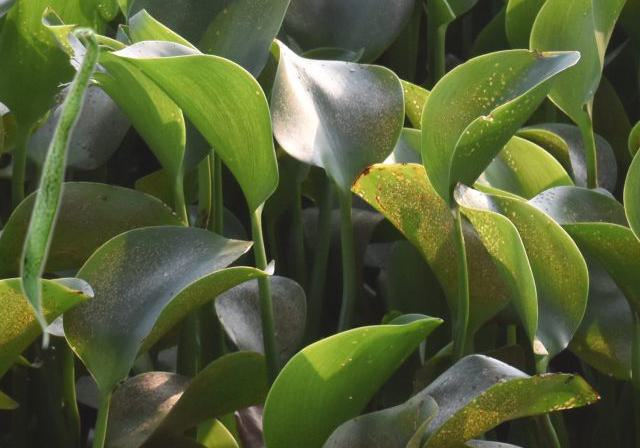french_bean: (18, 25, 100, 350)
